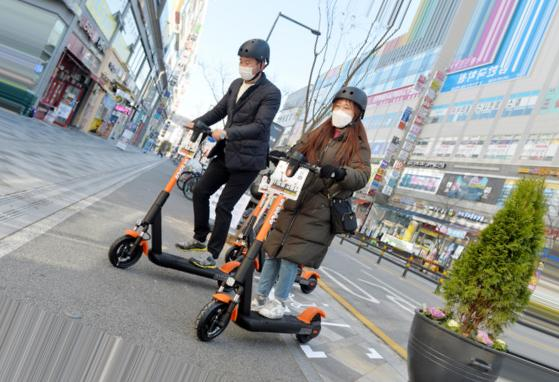scooter: (195, 148, 337, 345), (107, 121, 248, 293)
with helmet: (329, 84, 366, 129), (238, 38, 270, 81)
